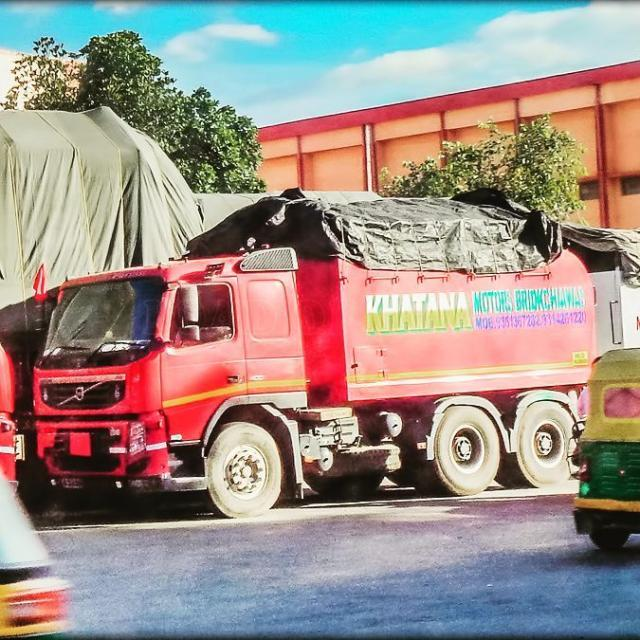Truck: (24, 243, 596, 522)
